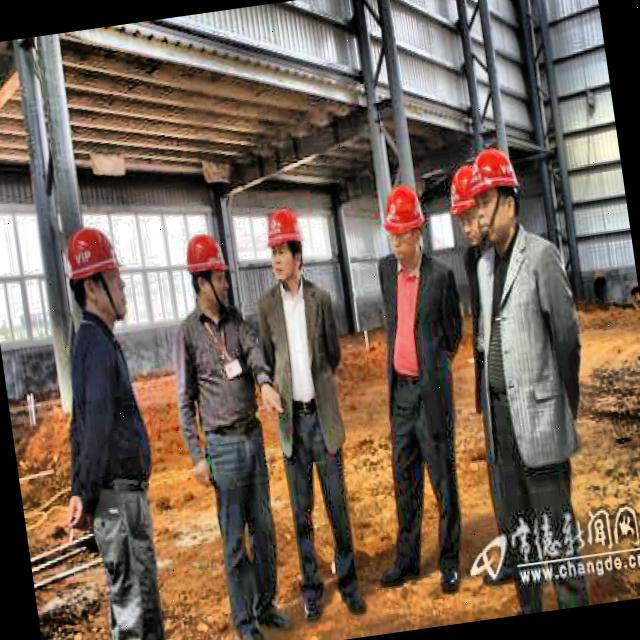helmet: (57, 218, 136, 335), (465, 142, 529, 251), (378, 180, 434, 270), (180, 224, 233, 317), (260, 203, 310, 288), (449, 164, 491, 253)
